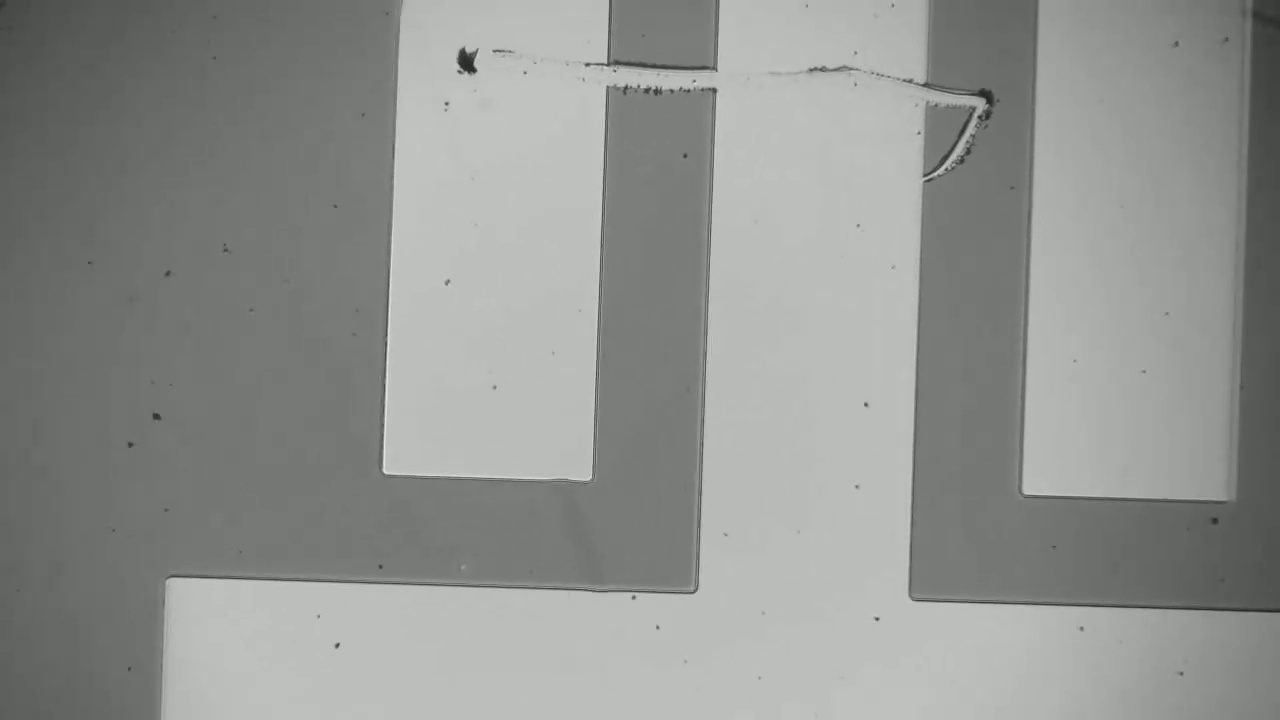Short_circuit: (561, 45, 729, 127), (896, 55, 1046, 140)
